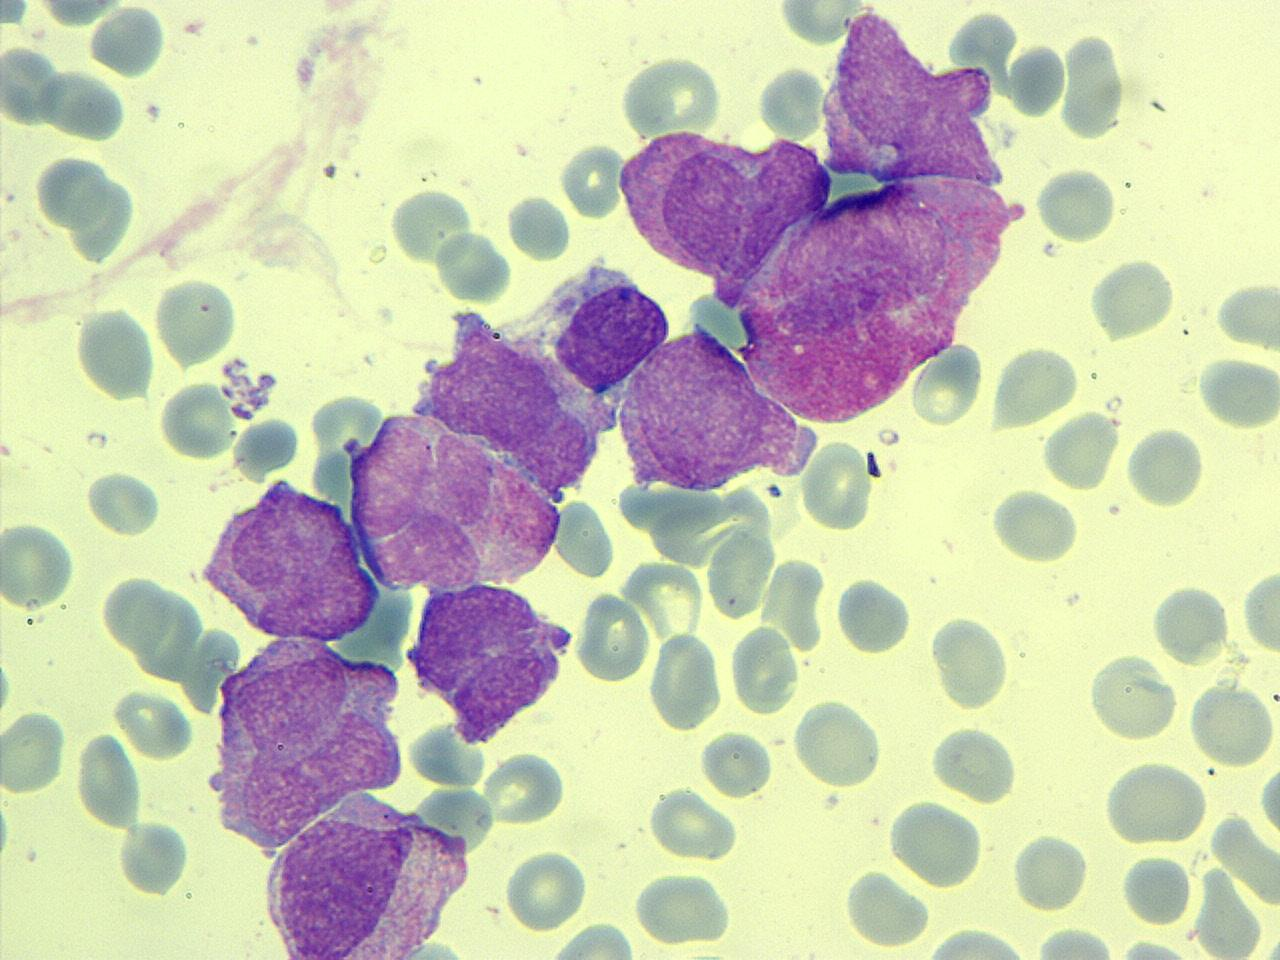Platelets: (0, 798, 15, 864), (291, 54, 318, 88), (0, 0, 31, 27)
RBC: (1102, 758, 1210, 848), (618, 50, 728, 138), (888, 794, 984, 888), (988, 340, 1080, 434), (792, 695, 884, 789), (152, 272, 241, 369), (74, 306, 158, 404), (1057, 26, 1129, 142), (1087, 650, 1177, 742), (631, 868, 737, 946), (1187, 678, 1277, 768), (929, 611, 1010, 711), (502, 844, 590, 933), (1089, 254, 1176, 341), (577, 587, 652, 687), (648, 630, 722, 732), (798, 434, 874, 532), (1125, 422, 1207, 511), (1032, 160, 1118, 246), (389, 185, 477, 268), (1150, 576, 1232, 666), (158, 373, 239, 464), (646, 785, 740, 862), (928, 722, 1018, 803), (706, 527, 780, 622), (990, 484, 1078, 564), (1010, 827, 1090, 913), (910, 340, 986, 430), (2, 518, 77, 609), (729, 622, 800, 716), (1040, 408, 1120, 492), (834, 574, 912, 656), (1119, 848, 1195, 929), (557, 137, 627, 223), (699, 725, 777, 801), (2, 41, 65, 128), (1215, 274, 1280, 354), (914, 924, 1036, 960)
WBC: (582, 2, 1044, 436), (340, 405, 575, 602), (201, 638, 403, 832), (195, 472, 386, 643), (612, 320, 796, 497), (402, 578, 580, 742), (538, 254, 672, 388)
